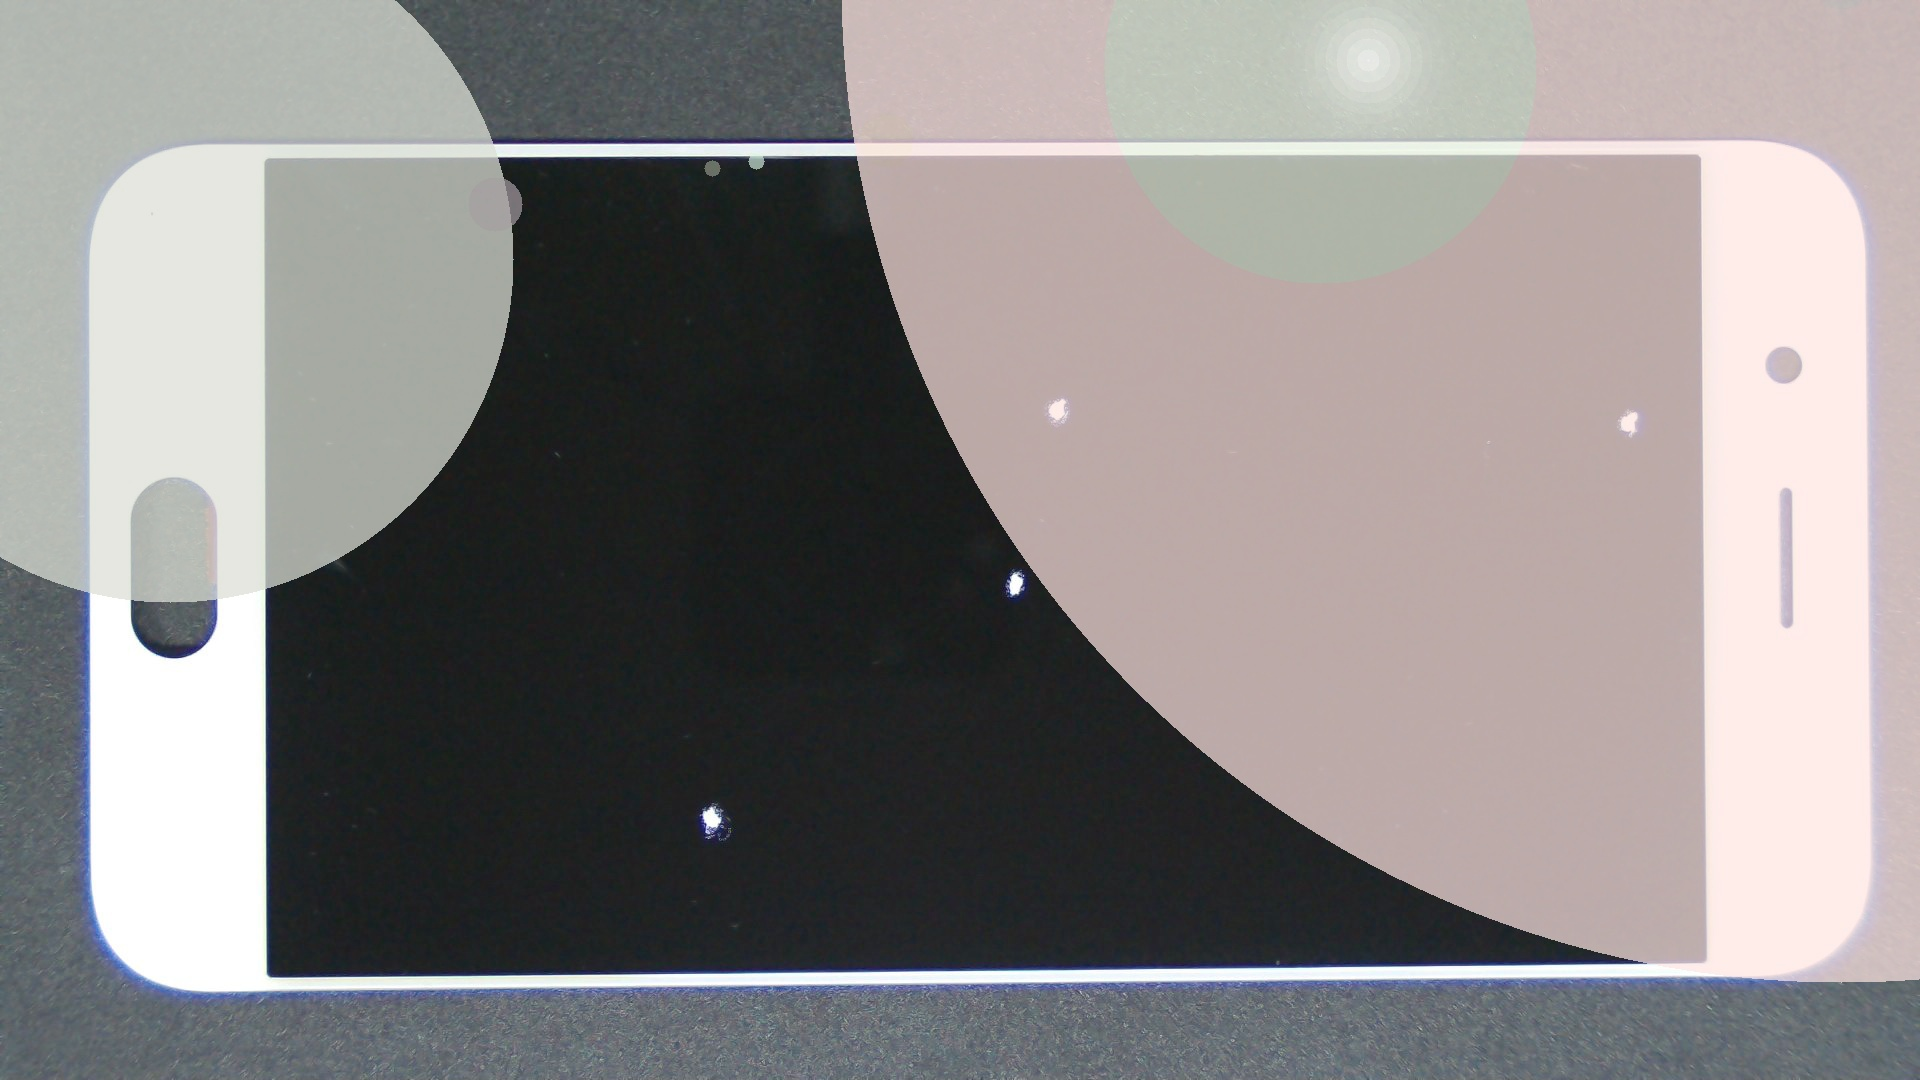oil: (506, 284, 1515, 853), (356, 401, 1064, 1080), (814, 203, 1920, 611), (531, 196, 1592, 592)
